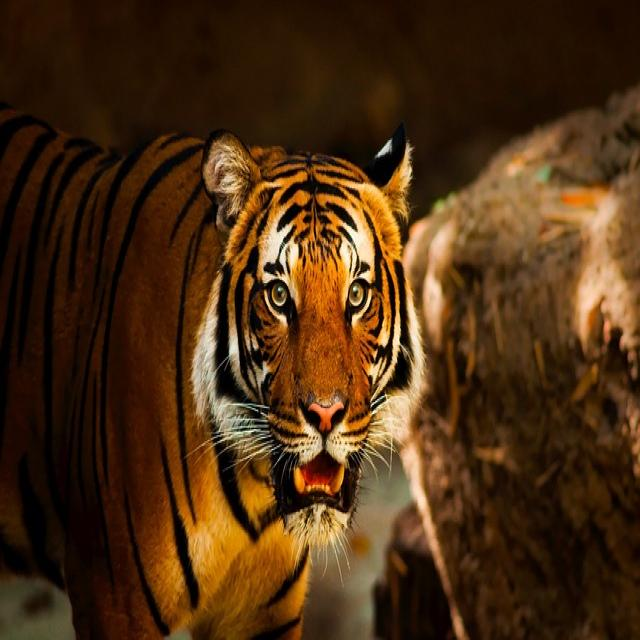Carnivorous: (10, 111, 425, 640)
